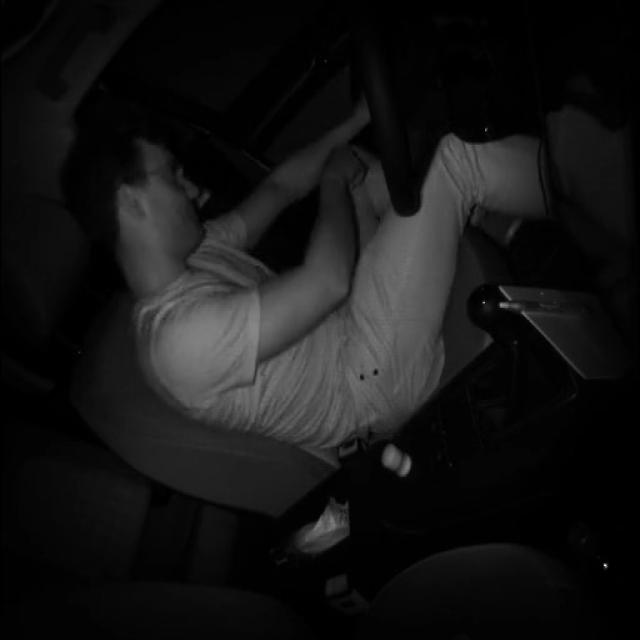pen: (497, 300, 597, 314)
